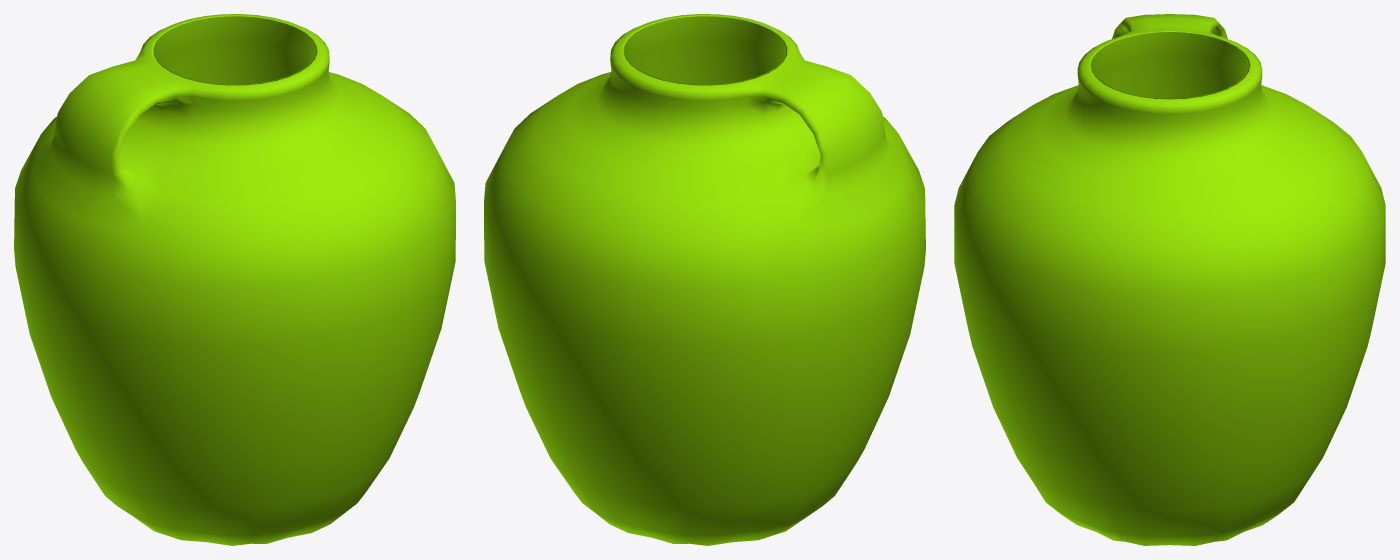
The model's file is Jar_01.fbx.
3 views of the same model, side by side, from view 1: azimuth 30°, elevation 25°; view 2: azimuth 150°, elevation 25°; view 3: azimuth 270°, elevation 25° (orthographic). The views are drawn at different scales.
Visible parts, largest first — view 1: Jar_01; view 2: Jar_01; view 3: Jar_01.
Boxes of the visible parts, bbox=[...] form: Jar_01: bbox=[14, 14, 455, 545]; Jar_01: bbox=[484, 14, 925, 545]; Jar_01: bbox=[954, 14, 1385, 545].
Bounding box in the file's own units: 55.45 × 62.6 × 55.27.
